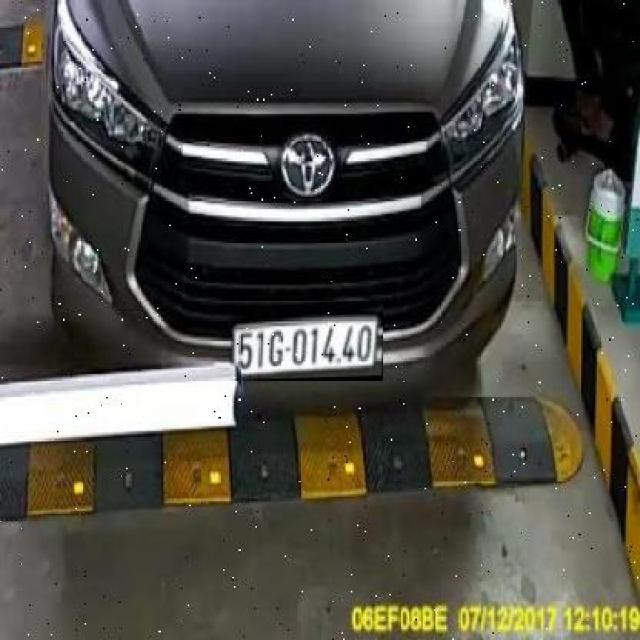number_plate: (228, 302, 383, 380)
